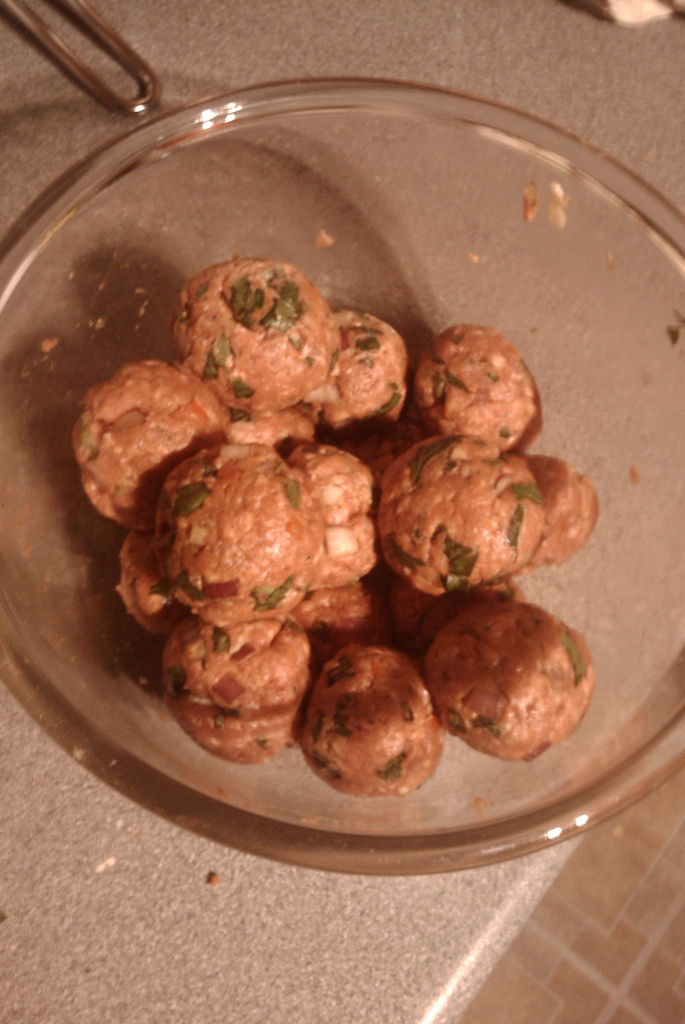meatballs: (150, 456, 332, 632), (420, 602, 603, 765), (365, 435, 548, 595), (173, 252, 340, 423), (75, 360, 225, 529), (171, 615, 317, 766), (410, 320, 553, 471), (304, 646, 443, 799)
